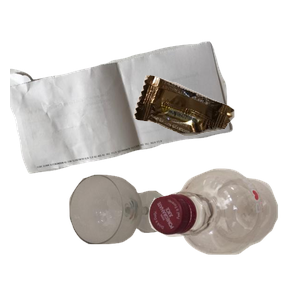glass: (67, 172, 229, 300)
paper: (10, 39, 236, 205)
plastic: (146, 166, 300, 300)
trash: (131, 73, 300, 202)
